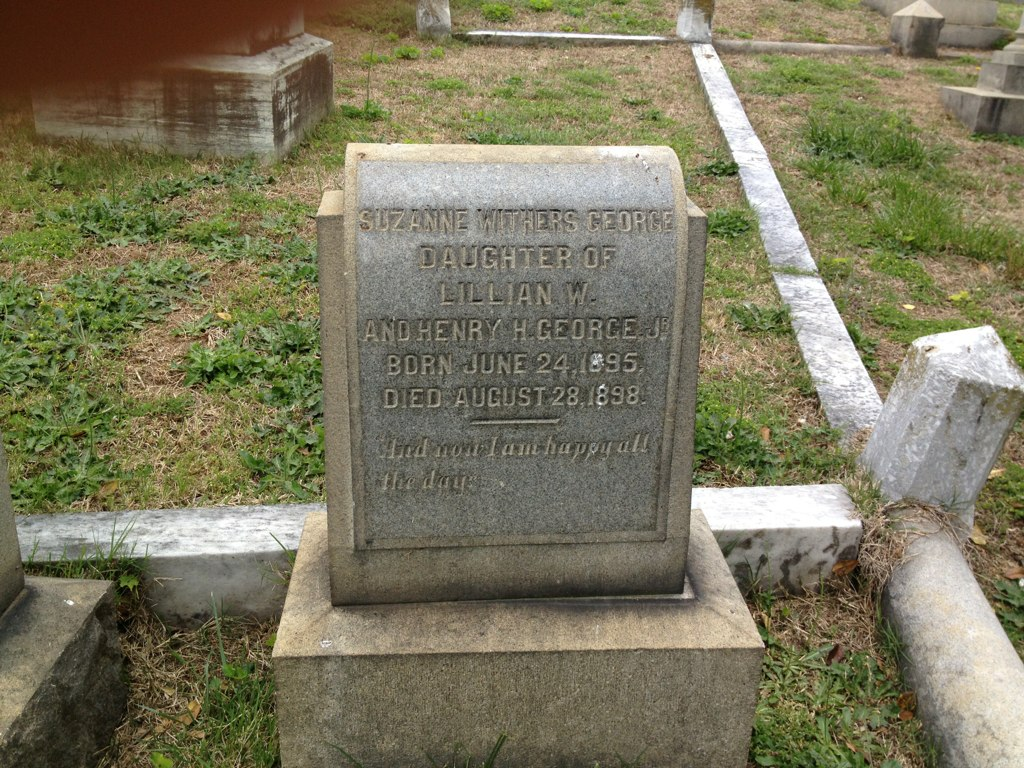upright: (318, 140, 704, 599)
